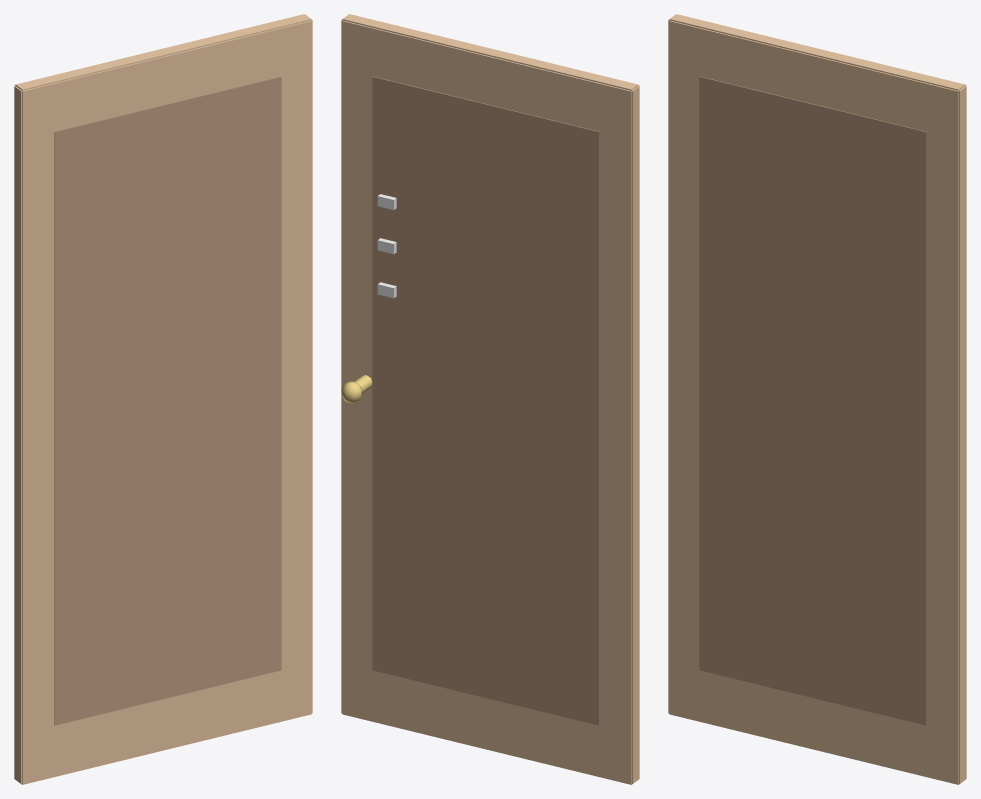
Rendered from door_apartment.glb.
3 renders of one model, left to right at view 1: azimuth 30°, elevation 25°; view 2: azimuth 150°, elevation 25°; view 3: azimuth 330°, elevation 25°, orthographic.
Parts seen in each view (by area): view 1: door_apartment; view 2: door_apartment; view 3: door_apartment.
Part boxes in pixels (box(x1,y1,x2,y2)): door_apartment: box(14, 14, 312, 784); door_apartment: box(341, 14, 639, 784); door_apartment: box(668, 14, 966, 784).
Size of the model in its own units: 0.9 by 2.05 by 0.1535.
